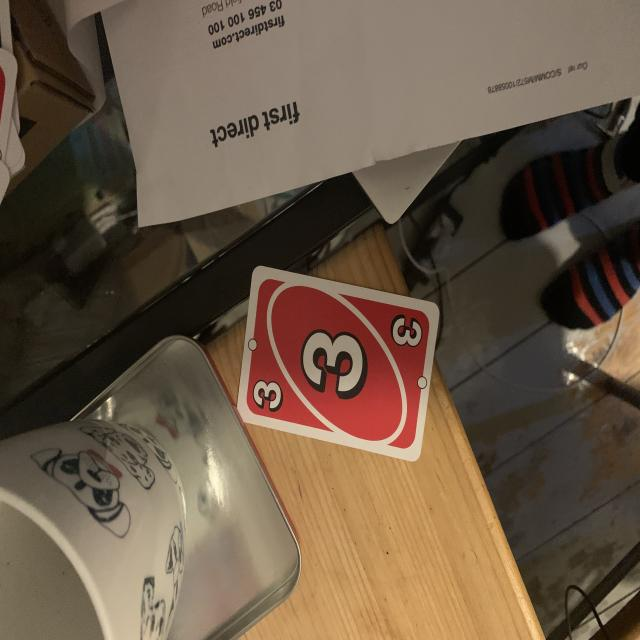lred-3: (386, 309, 426, 358)
